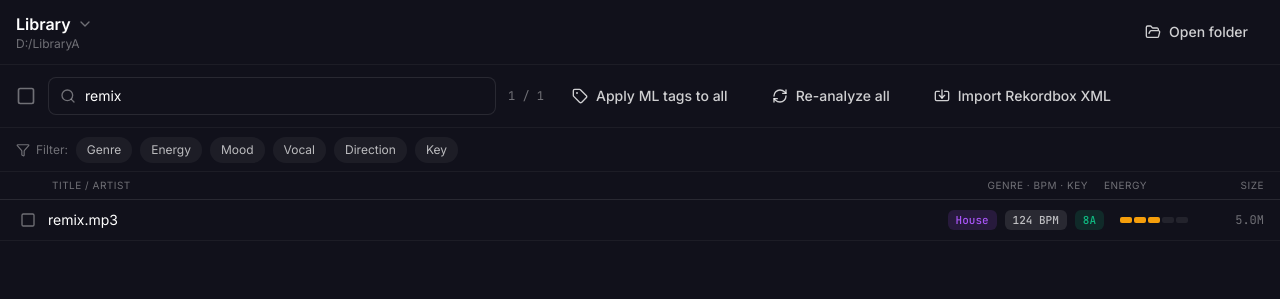
<LibraryBrowser /> — state reset on library switch › clears the search box when switching libraries (bug #2)
Expected: the field with placeholder "Filter tracks..." holds "remix", [48,77,496,115]
Step 1. Click the button "Library" → (54, 24), box [16,12,93,36]
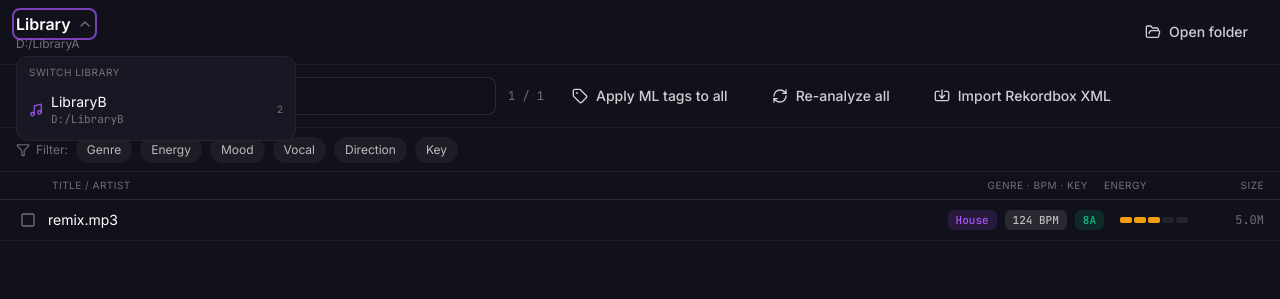
Step 2. Click the option "LibraryB D:/LibraryB 2" → (79, 102), box [21,84,291,136]
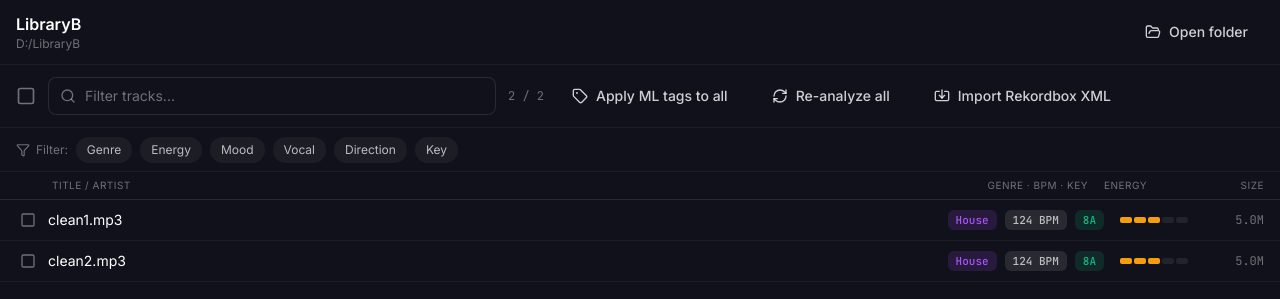
Expected: the field with placeholder "Filter tracks..." is empty, [48,77,496,115]
Expected: the text "2 / 2" is shown, [508,88,544,104]
